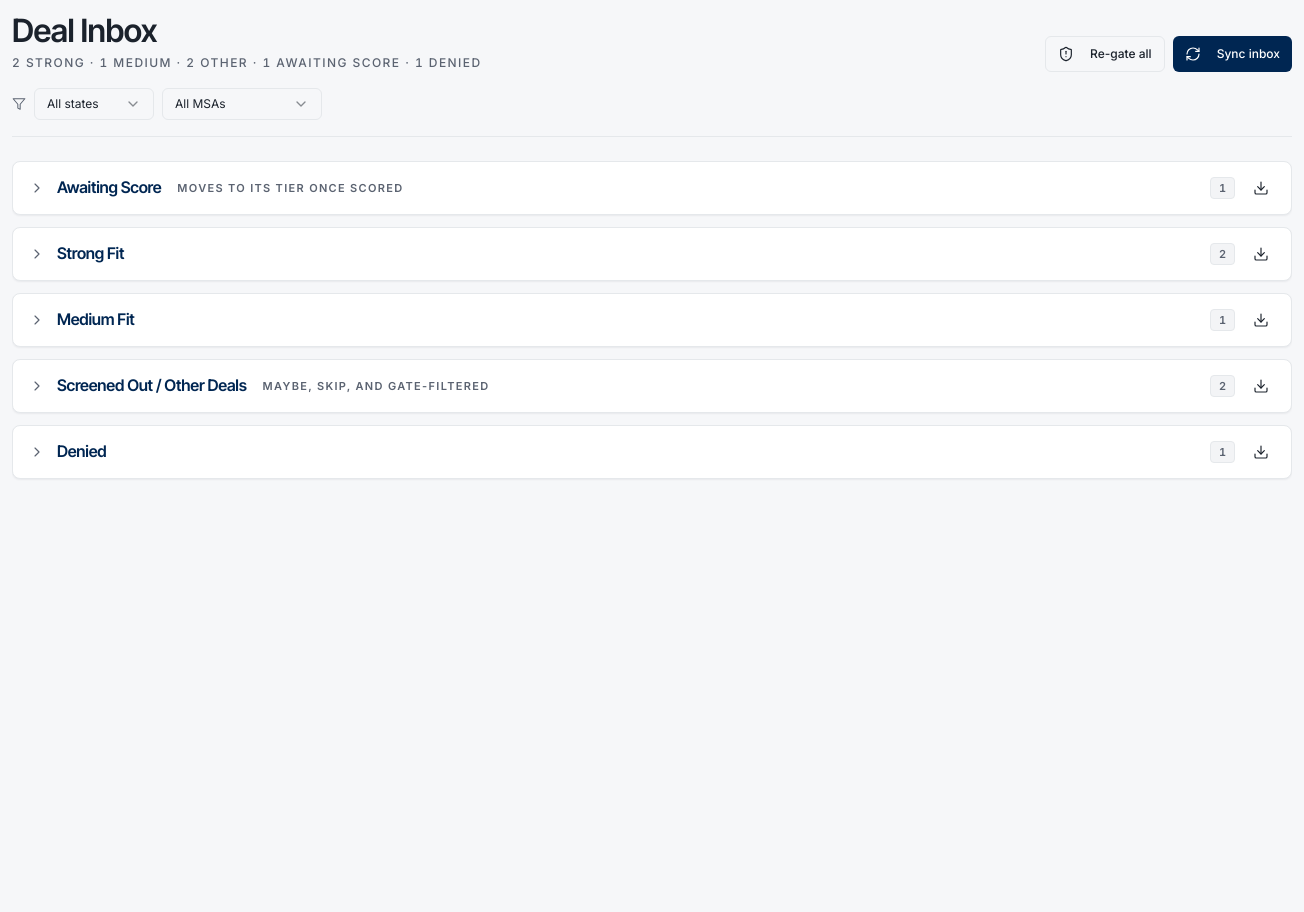
Test case: Deal Inbox › shows the email date on each tile
The width and height of the screenshot is (1304, 912).
expect the 1st text "2" is shown: met, box [1210,242,1235,265]
Click the heading "Medium Fit" at (96, 320), box [57,307,134,332]
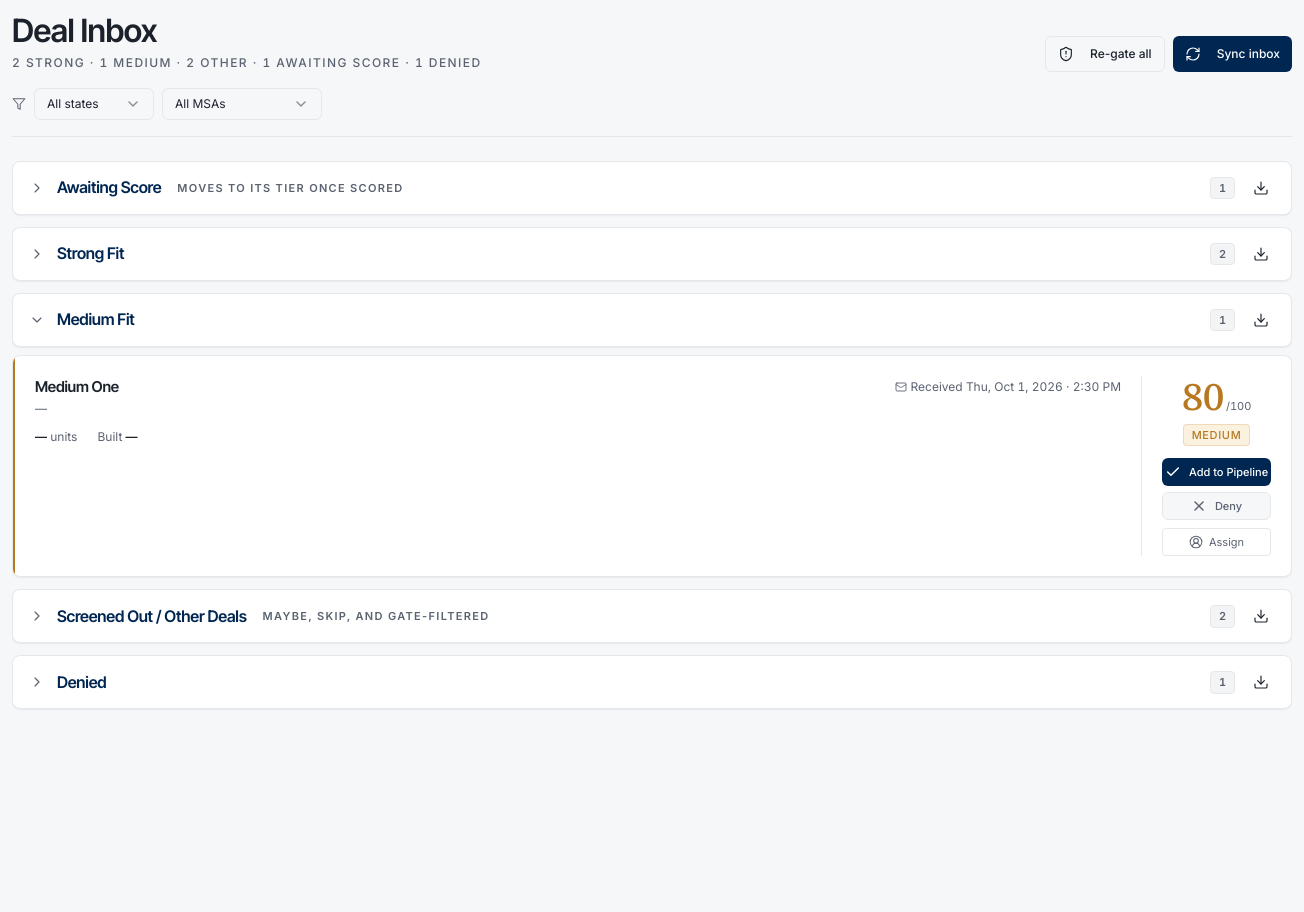
expect the text "Received Thu, Oct 1, 2026 · 2:30 PM" is shown: met, box [894,378,1121,396]
